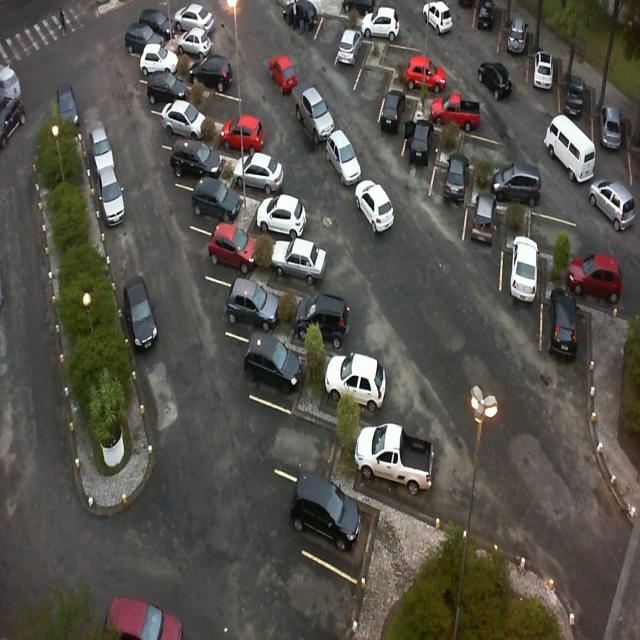car: (353, 422, 432, 495), (289, 473, 360, 552), (102, 588, 185, 640), (326, 349, 388, 410), (544, 114, 597, 184), (246, 331, 306, 388), (292, 296, 349, 355), (224, 276, 277, 330), (564, 254, 622, 303), (548, 280, 579, 371), (123, 274, 159, 350), (206, 220, 257, 273), (586, 178, 634, 233), (192, 176, 244, 225), (232, 150, 286, 196), (258, 194, 308, 240), (299, 89, 337, 149), (490, 165, 540, 210), (354, 181, 394, 236), (275, 237, 326, 280), (96, 162, 128, 230), (171, 139, 224, 180), (506, 238, 538, 305), (326, 128, 363, 185), (428, 90, 480, 130), (218, 114, 266, 155), (164, 102, 208, 143), (189, 55, 233, 94), (140, 44, 178, 86), (146, 72, 190, 108), (440, 156, 471, 207), (406, 57, 448, 94), (88, 123, 118, 174), (164, 27, 213, 57), (410, 111, 434, 170), (478, 62, 514, 101), (0, 94, 26, 147), (598, 102, 623, 154), (362, 6, 400, 40), (172, 3, 215, 33), (472, 188, 494, 243), (269, 56, 299, 95), (376, 88, 402, 133), (126, 24, 162, 56), (562, 66, 583, 120), (422, 0, 453, 35), (471, 386, 500, 423), (506, 11, 526, 64), (335, 29, 363, 66), (282, 0, 318, 28), (57, 83, 78, 127), (533, 51, 553, 90), (139, 8, 169, 32), (1, 66, 21, 100), (476, 0, 494, 30)
